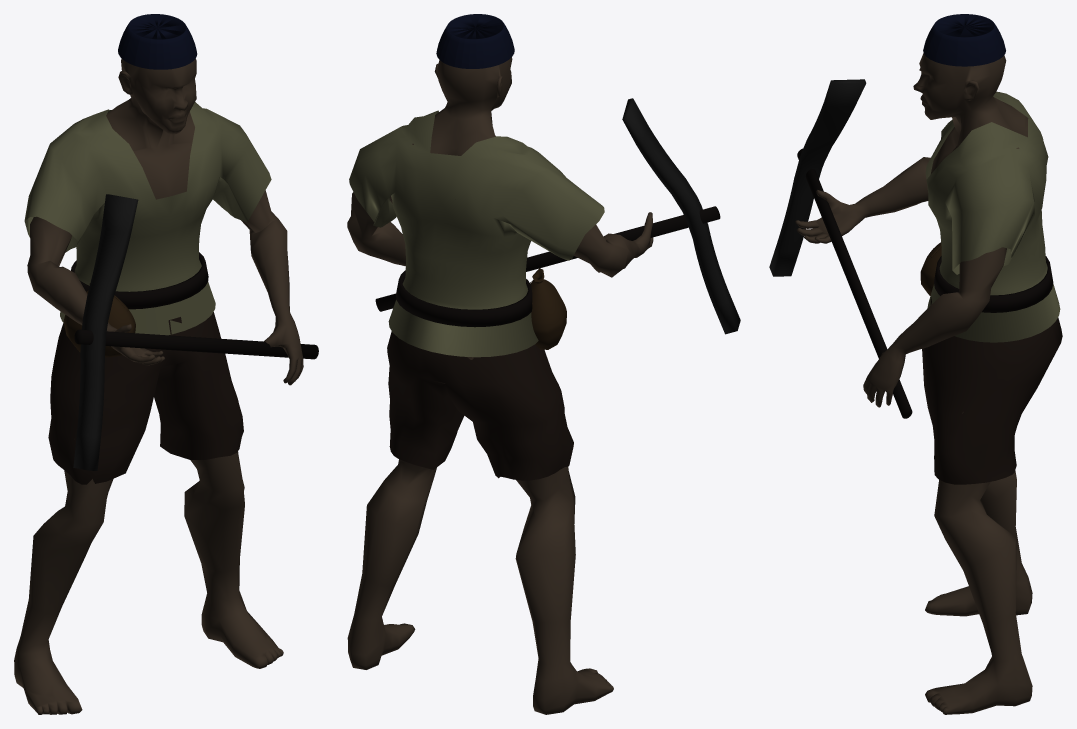
The model's file is worker01.obj.
3 renders of one model, left to right at view 1: azimuth 30°, elevation 25°; view 2: azimuth 150°, elevation 25°; view 3: azimuth 270°, elevation 25°, orthographic. The views are drawn at different scales.
Parts seen in each view (by area): view 1: Human.000_body.000_skin_player, jacket_Circle.006_shirt, pants_Circle.009_pants, Cube_Cube_metal, hat_Circle.008_hat, Cylinder_Cylinder.002_lightwood, Circle.003_Circle.010_sandals, Plane.010_Plane.019_bag; view 2: jacket_Circle.006_shirt, Human.000_body.000_skin_player, pants_Circle.009_pants, Cube_Cube_metal, hat_Circle.008_hat, Circle.003_Circle.010_sandals, Plane.010_Plane.019_bag, Cylinder_Cylinder.002_lightwood; view 3: Human.000_body.000_skin_player, jacket_Circle.006_shirt, pants_Circle.009_pants, Cube_Cube_metal, hat_Circle.008_hat, Cylinder_Cylinder.002_lightwood, Circle.003_Circle.010_sandals, Plane.010_Plane.019_bag.
Part boxes in pixels (bbox=[...]): Human.000_body.000_skin_player: bbox=[14, 58, 303, 714]; jacket_Circle.006_shirt: bbox=[24, 102, 271, 335]; pants_Circle.009_pants: bbox=[48, 312, 243, 484]; Cube_Cube_metal: bbox=[73, 194, 138, 470]; hat_Circle.008_hat: bbox=[118, 14, 197, 69]; Cylinder_Cylinder.002_lightwood: bbox=[74, 329, 318, 359]; Circle.003_Circle.010_sandals: bbox=[71, 252, 208, 309]; Plane.010_Plane.019_bag: bbox=[63, 283, 135, 357]; jacket_Circle.006_shirt: bbox=[349, 110, 604, 357]; Human.000_body.000_skin_player: bbox=[347, 57, 653, 714]; pants_Circle.009_pants: bbox=[387, 331, 573, 480]; Cube_Cube_metal: bbox=[622, 98, 740, 334]; hat_Circle.008_hat: bbox=[436, 14, 514, 68]; Circle.003_Circle.010_sandals: bbox=[396, 270, 532, 327]; Plane.010_Plane.019_bag: bbox=[530, 268, 566, 349]; Cylinder_Cylinder.002_lightwood: bbox=[375, 206, 720, 311]; Human.000_body.000_skin_player: bbox=[795, 53, 1032, 714]; jacket_Circle.006_shirt: bbox=[925, 91, 1060, 342]; pants_Circle.009_pants: bbox=[922, 297, 1062, 484]; Cube_Cube_metal: bbox=[769, 79, 866, 276]; hat_Circle.008_hat: bbox=[923, 14, 1005, 66]; Cylinder_Cylinder.002_lightwood: bbox=[797, 148, 912, 418]; Circle.003_Circle.010_sandals: bbox=[934, 256, 1053, 312]; Plane.010_Plane.019_bag: bbox=[920, 242, 941, 295].
Bounding box in the file's own units: 1.21 × 2.47 × 1.03.
